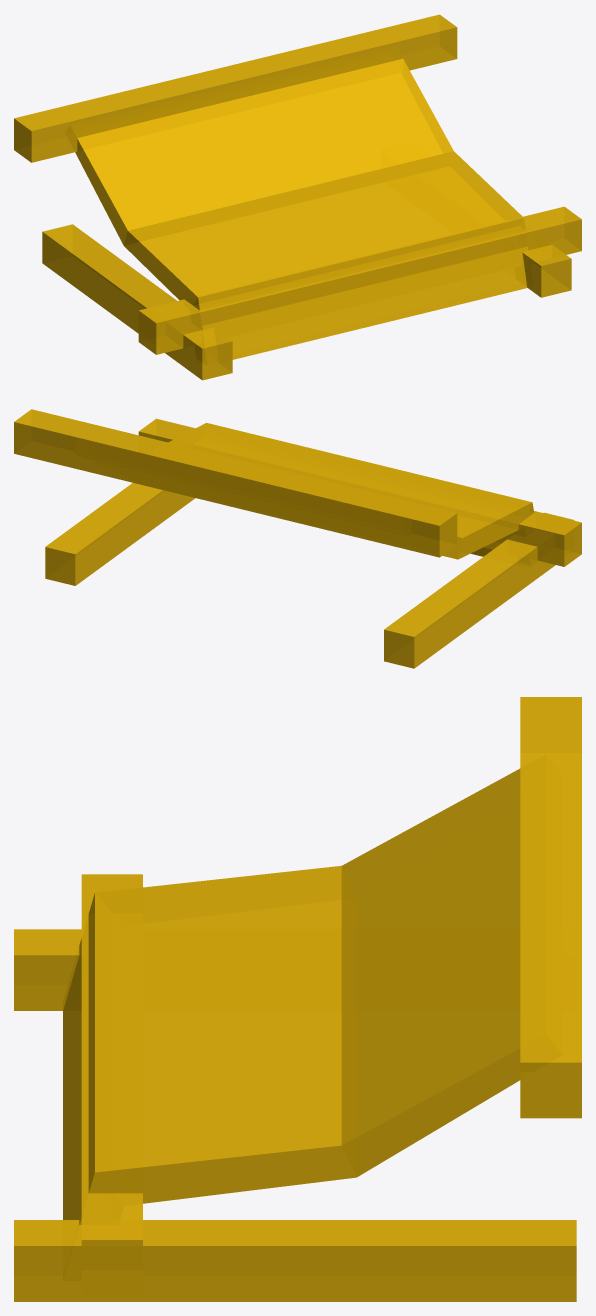
File: SM_Bld_Awning_04_Collision.fbx
3 renders of one model, top to bottom at view 1: azimuth 30°, elevation 25°; view 2: azimuth 150°, elevation 25°; view 3: azimuth 270°, elevation 25°, orthographic. The views are drawn at different scales.
Parts seen in each view (by area): view 1: SM_Bld_Awning_04_Collision; view 2: SM_Bld_Awning_04_Collision; view 3: SM_Bld_Awning_04_Collision.
Boxes of the visible parts, x1=… form: SM_Bld_Awning_04_Collision: x1=14, y1=14, x2=581, y2=380; SM_Bld_Awning_04_Collision: x1=14, y1=409, x2=581, y2=668; SM_Bld_Awning_04_Collision: x1=14, y1=697, x2=581, y2=1301.
Size of the model in its own units: 255 by 88.13 by 167.
